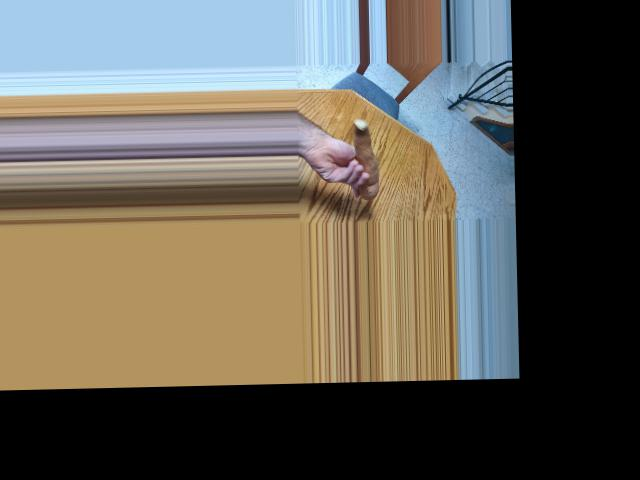sweet_potato: (345, 121, 382, 200)
